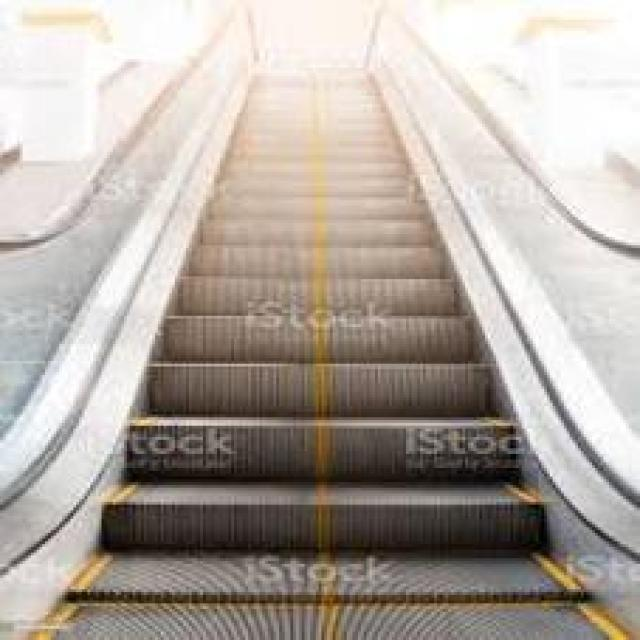stair: (79, 372, 572, 589)
